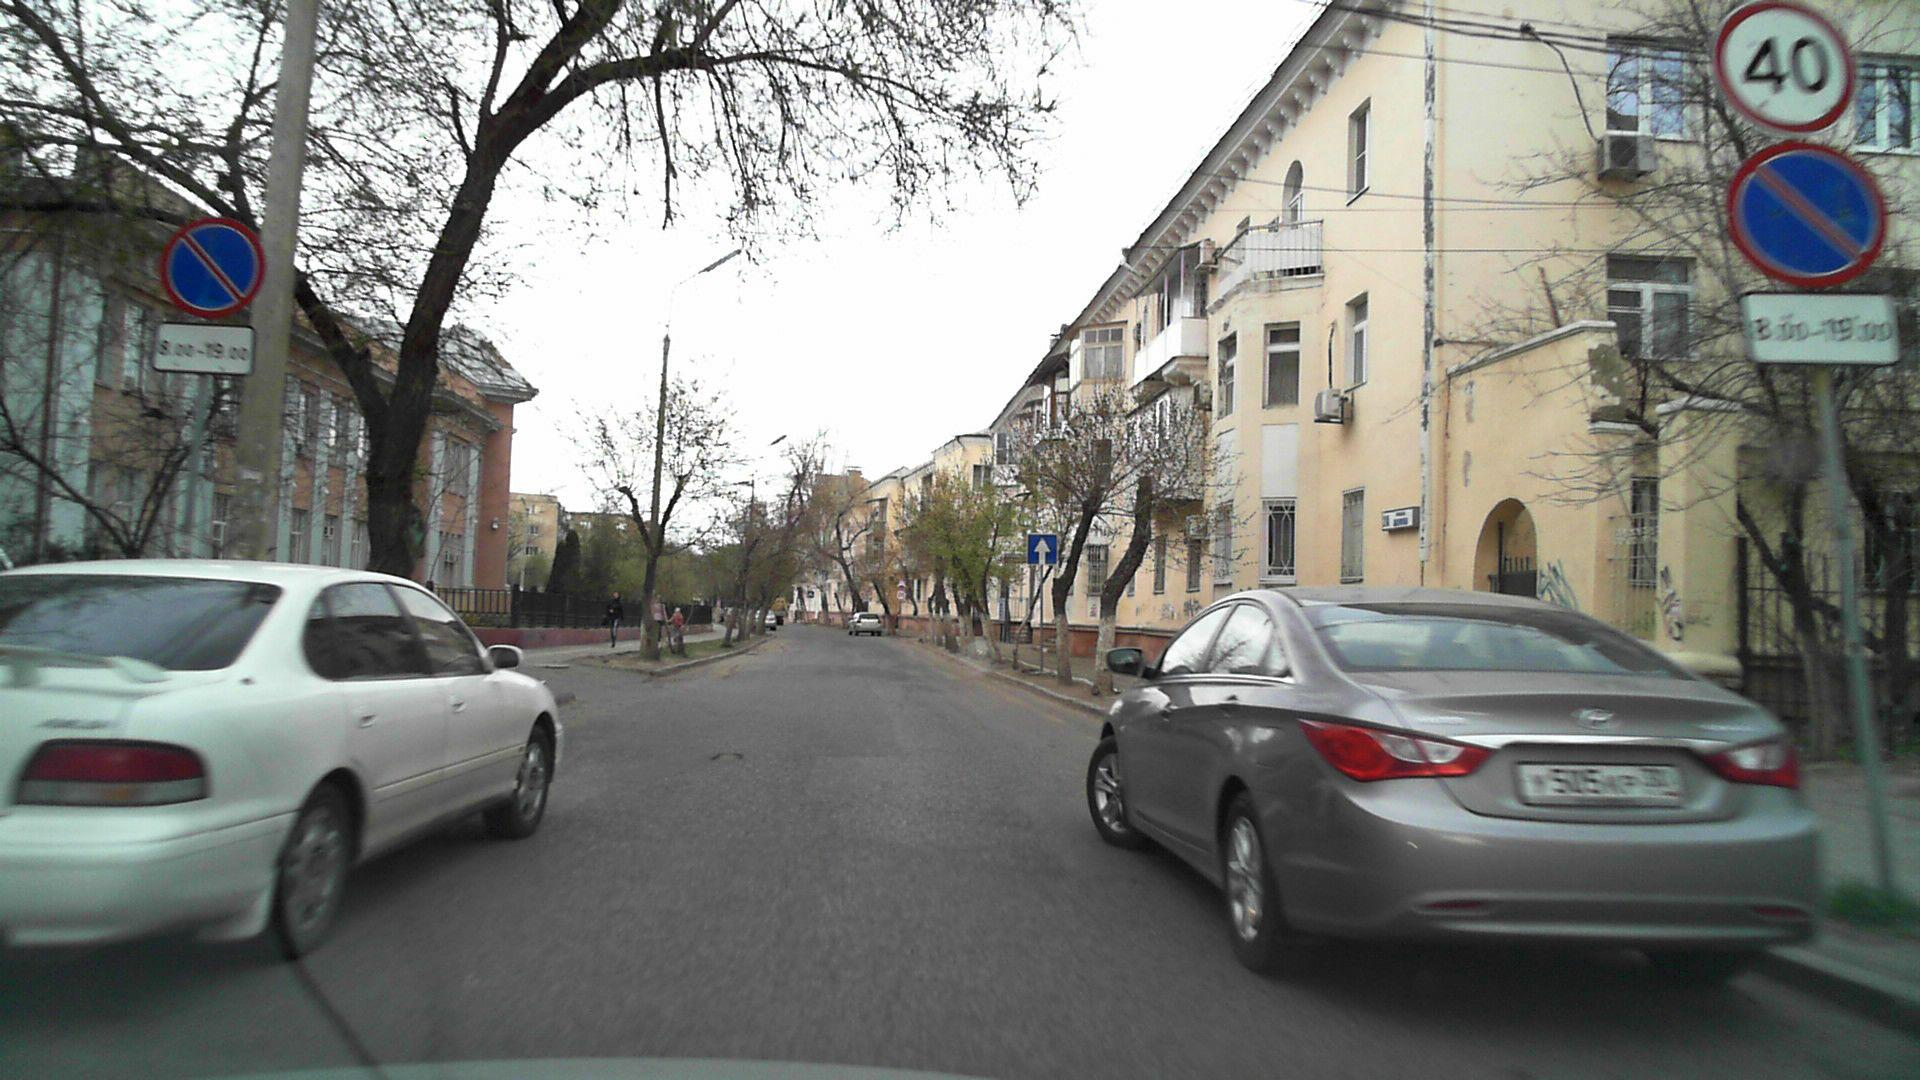1_17: (897, 579, 907, 589)
1_23: (862, 585, 873, 595)
3_24: (1718, 0, 1857, 129), (895, 591, 907, 600)
3_28: (1716, 140, 1891, 291), (153, 218, 265, 319)
5_20: (807, 589, 816, 599)
5_5: (1029, 533, 1058, 566)
8_2_1: (861, 596, 873, 603)
8_5_4: (1739, 293, 1900, 367), (150, 319, 257, 378)
